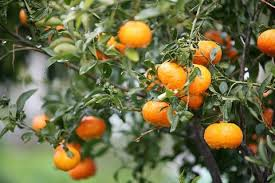orange: (203, 122, 245, 148), (184, 60, 211, 96), (118, 20, 152, 48), (142, 100, 175, 128), (186, 39, 223, 63), (159, 60, 187, 91), (50, 143, 80, 169), (76, 115, 106, 138), (69, 157, 97, 180)
